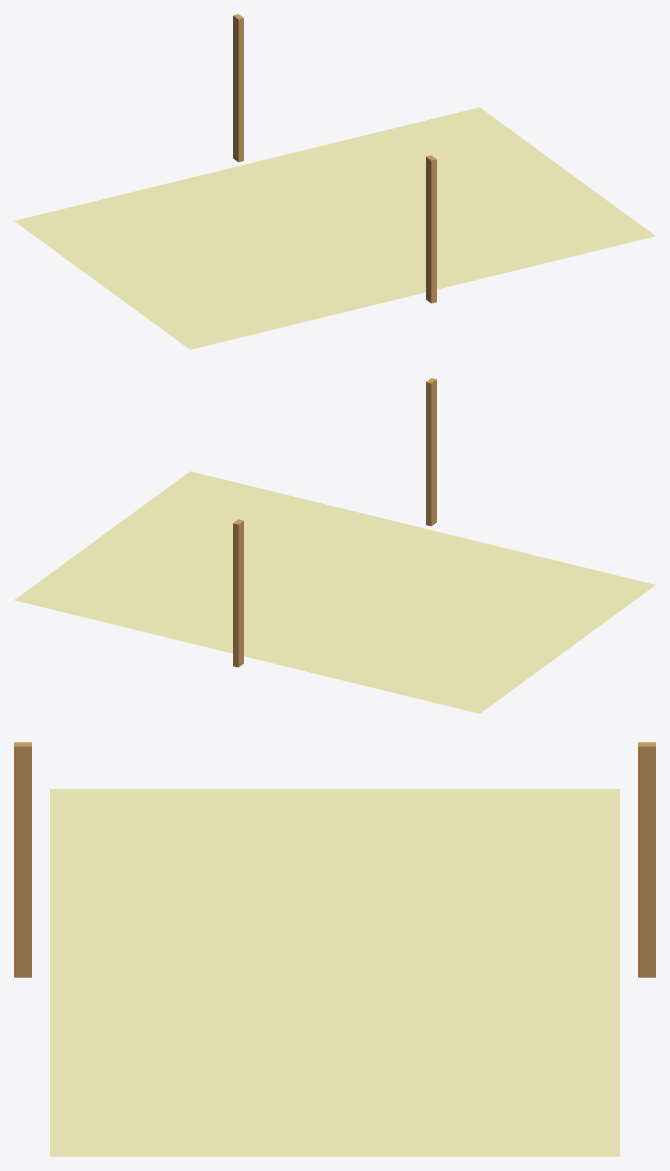
Rendered from beach_vollyball.glb.
The picture shows the model from 3 angles, top to bottom: view 1: azimuth 30°, elevation 25°; view 2: azimuth 150°, elevation 25°; view 3: azimuth 270°, elevation 25°; orthographic projection. The views are drawn at different scales.
Visible parts, largest first — view 1: Sand_3, Right Post_1, Left Post_2; view 2: Sand_3, Left Post_2, Right Post_1; view 3: Sand_3, Right Post_1, Left Post_2.
Boxes of the visible parts, x1,y1,x2,y2 form: Sand_3: (14,107,655,349); Right Post_1: (233,14,243,162); Left Post_2: (426,155,436,303); Sand_3: (14,471,655,713); Left Post_2: (426,378,436,526); Right Post_1: (233,519,243,667); Sand_3: (50,789,619,1156); Right Post_1: (638,742,655,977); Left Post_2: (14,742,31,977).
Size of the model in its own units: 29 by 8.5 by 21.4.
